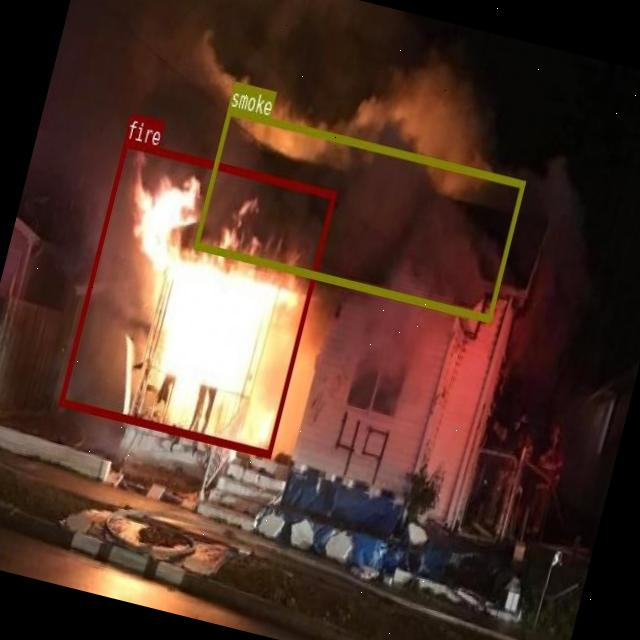fire: (58, 138, 336, 456)
smoke: (192, 106, 525, 320)
